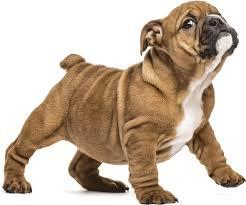Dog: (138, 1, 244, 61)
